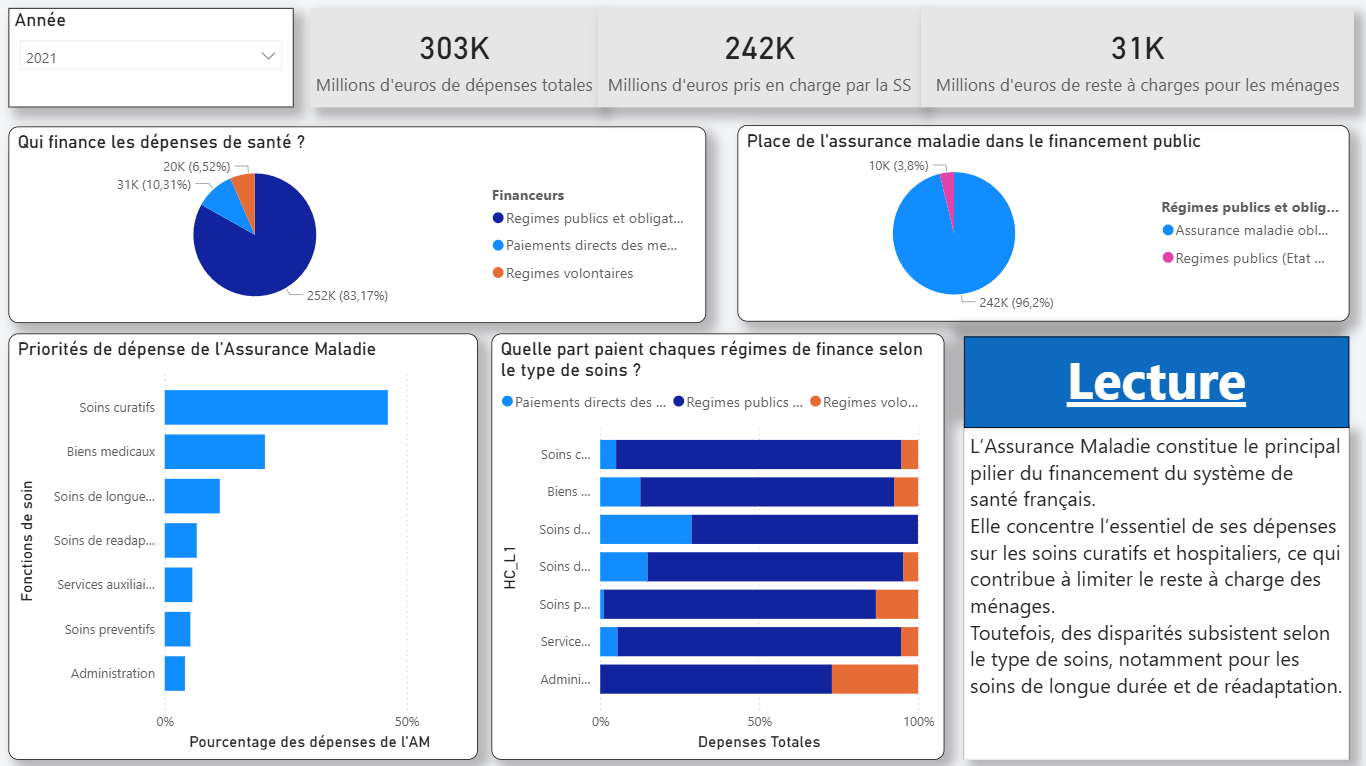

The dashboard page shown, as its layout file describes it:
{"tool":"powerbi","page":{"name":"Synthèse","canvas":[1280,720],"ordinal":1},"visuals":[{"type":"slicer","title":"Année","fields":{"Values":["cns_sha.Annee"]},"box":[12.5,13.9,263.9,91.7],"z":0},{"type":"card","fields":{"Values":["cns_sha.Depenses Totales"]},"box":[291.7,13.9,266.7,91.7],"z":1000},{"type":"pieChart","title":"Qui finance les dépenses de santé ?","fields":{"Y":["cns_sha.Depenses Totales"],"Category":["HF_mapping.HF_L1"]},"box":[12.5,123.6,645.8,181.9],"z":2000},{"type":"pieChart","title":"Place de l''assurance maladie dans le financement public","fields":{"Category":["HF_mapping.HF_L2"],"Y":["cns_sha.Depenses Totales"]},"box":[687.5,122.2,566.7,181.9],"z":3000},{"type":"barChart","title":"Priorités de dépense de l’Assurance Maladie","fields":{"Category":["HC_mapping.HC_L1"],"Y":["Divide(cns_sha.Depenses Totales, ScopedEval(cns_sha.Depenses Totales, []))"]},"box":[12.5,315.3,434.7,394.4],"z":4000},{"type":"hundredPercentStackedBarChart","title":"Quelle part paient chaques régimes de finance selon le type de soins ?","fields":{"Category":["HC_mapping.HC_L1"],"Series":["HF_mapping.HF_L1"],"Y":["cns_sha.Depenses Totales"]},"box":[459.7,315.3,419.4,394.4],"z":4001},{"type":"card","fields":{"Values":["cns_sha.Depenses Totales"]},"box":[558.3,13.9,298.6,91.7],"z":4002},{"type":"card","fields":{"Values":["cns_sha.Depenses Totales"]},"box":[856.9,13.9,401.4,91.7],"z":4003},{"type":"textbox","box":[897.2,400,356.9,309.7],"z":4004},{"type":"textbox","box":[897.2,318.1,356.9,84.7],"z":4005}]}

Visuals, with their boxes in screenshot pixels (x1, y1, x2, y2), scaled from the page's 1280x720 canvas onto the 1366x766 screenshot:
"Année" slicer: 13/15/295/112
card - cns_sha.Depenses Totales: 311/15/596/112
"Qui finance les dépenses de santé ?" pieChart: 13/131/703/325
"Place de l''assurance maladie dans le financement public" pieChart: 734/130/1338/324
"Priorités de dépense de l’Assurance Maladie" barChart: 13/335/477/755
"Quelle part paient chaques régimes de finance selon le type de soins ?" hundredPercentStackedBarChart: 491/335/938/755
card - cns_sha.Depenses Totales: 596/15/914/112
card - cns_sha.Depenses Totales: 914/15/1343/112
textbox: 957/426/1338/755
textbox: 957/338/1338/429
